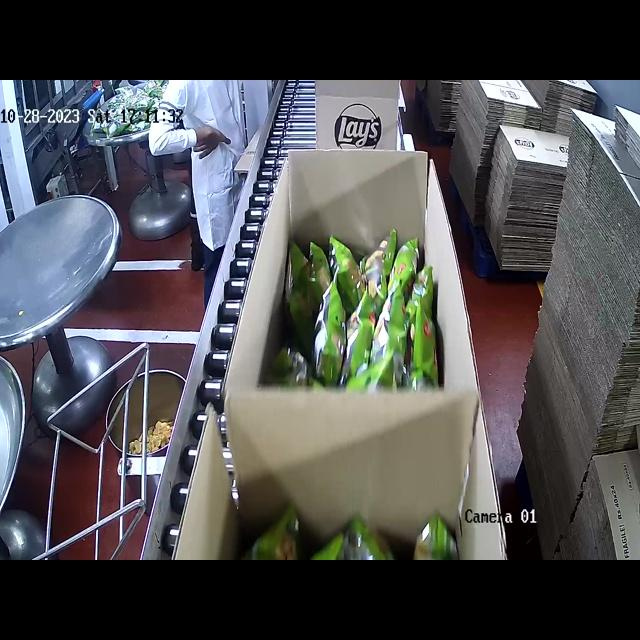yogurt: (295, 220, 450, 371), (255, 500, 446, 560)
